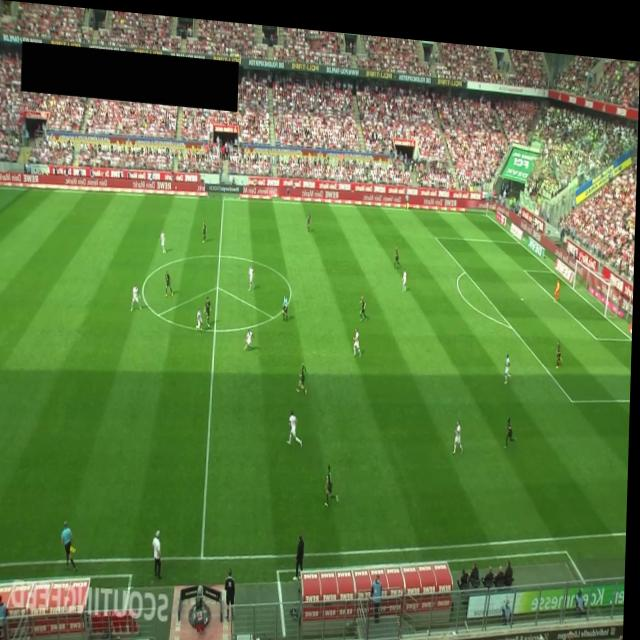goalkeeper: (555, 267, 562, 292)
player: (326, 457, 343, 502), (288, 403, 305, 441), (454, 409, 467, 446), (507, 406, 519, 439), (298, 357, 310, 388), (132, 281, 145, 309), (556, 328, 566, 359), (205, 291, 214, 324), (355, 320, 364, 351), (166, 267, 176, 294), (245, 324, 256, 346), (361, 287, 369, 315), (506, 342, 513, 373), (198, 304, 206, 328), (395, 238, 403, 261), (161, 227, 168, 251), (250, 260, 256, 287), (403, 260, 409, 285), (203, 217, 209, 239), (308, 206, 313, 226)
referee: (63, 518, 82, 571), (283, 288, 290, 315), (406, 184, 411, 202)
